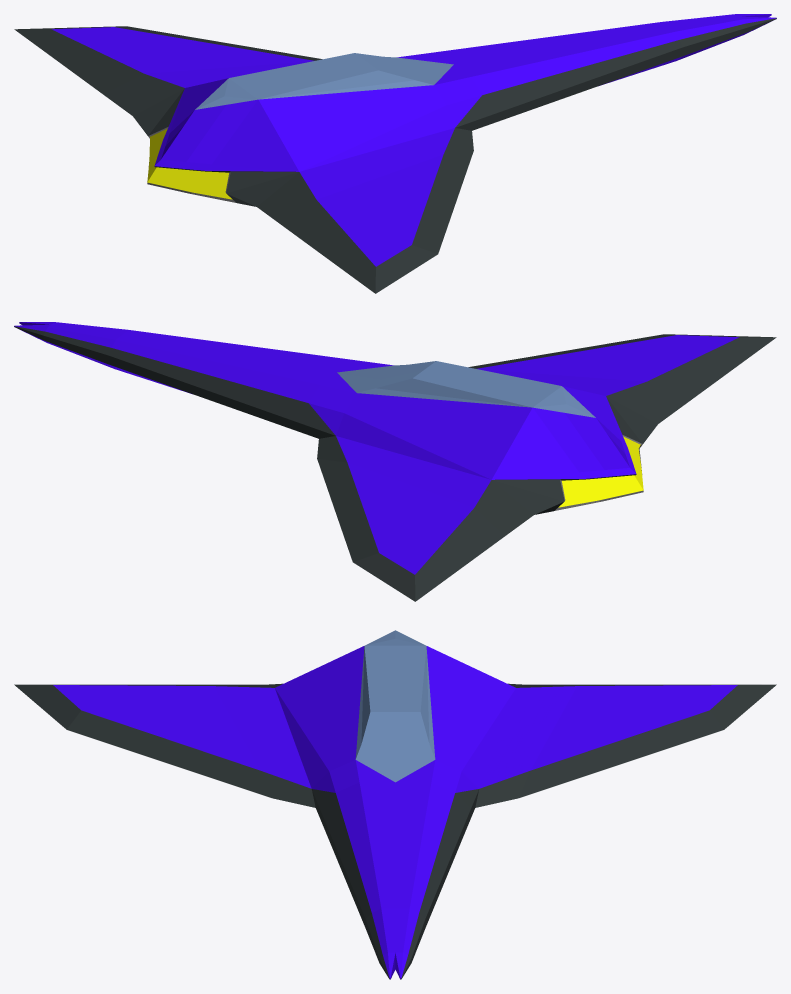
Rendered from Enemy Plane.fbx.
3 renders of one model, top to bottom at view 1: azimuth 30°, elevation 25°; view 2: azimuth 150°, elevation 25°; view 3: azimuth 270°, elevation 25°, orthographic. The views are drawn at different scales.
Visible parts, largest first — view 1: PlayerPlane; view 2: PlayerPlane; view 3: PlayerPlane.
Boxes of the visible parts, <box> form: PlayerPlane: <box>14,14,776,293</box>; PlayerPlane: <box>14,322,776,601</box>; PlayerPlane: <box>14,630,776,979</box>.
Bounding box in the file's own units: 4129 × 498 × 4126.
